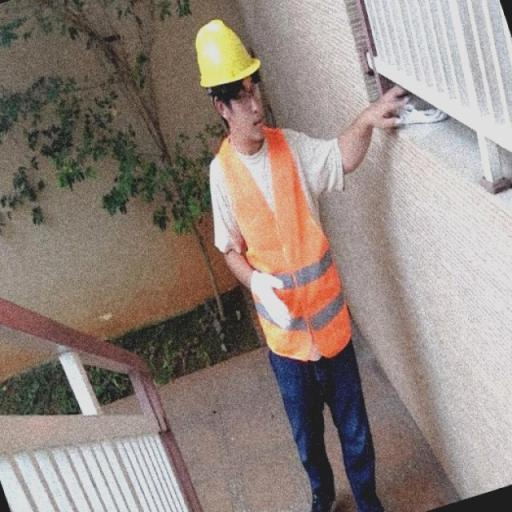Person: (174, 13, 410, 512)
boots: (286, 468, 366, 506)
gloves: (246, 267, 298, 331)
helmet: (191, 16, 265, 91)
none: (353, 78, 411, 138)
vest: (202, 120, 351, 366)
